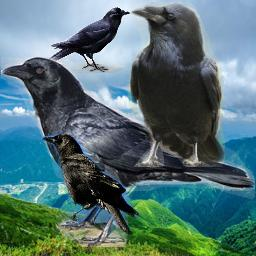Crow: (1, 57, 255, 247), (128, 2, 225, 167), (37, 132, 141, 237), (47, 7, 130, 73)
